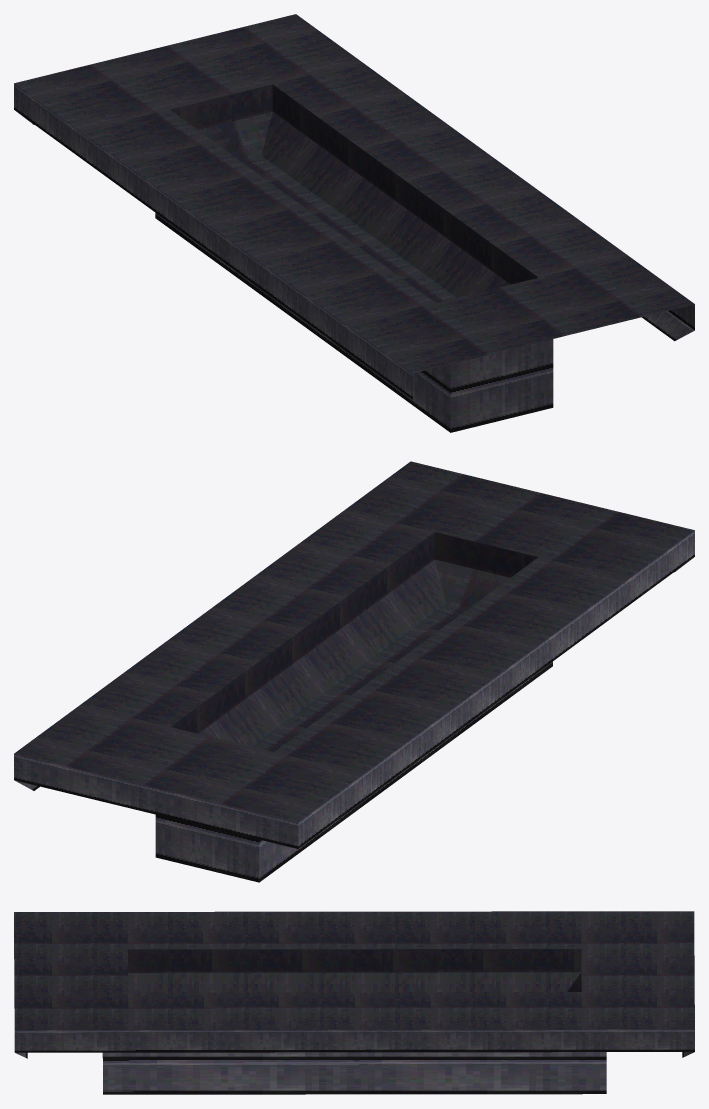
File: aztec_unknown.glb
The picture shows the model from 3 angles, top to bottom: view 1: azimuth 30°, elevation 25°; view 2: azimuth 150°, elevation 25°; view 3: azimuth 270°, elevation 25°; orthographic projection. The views are drawn at different scales.
Visible parts, largest first — view 1: Object; view 2: Object; view 3: Object.
Boxes of the visible parts, left/top/right/bottom form: Object: left=14, top=14, right=694, bottom=432; Object: left=14, top=461, right=694, bottom=882; Object: left=14, top=911, right=694, bottom=1094.
Bounding box in the file's own units: 3.12 × 1.25 × 7.55.
10 materials, 10 textured.
